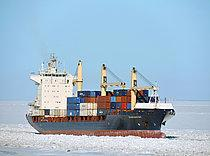Ship: (23, 47, 181, 142)
